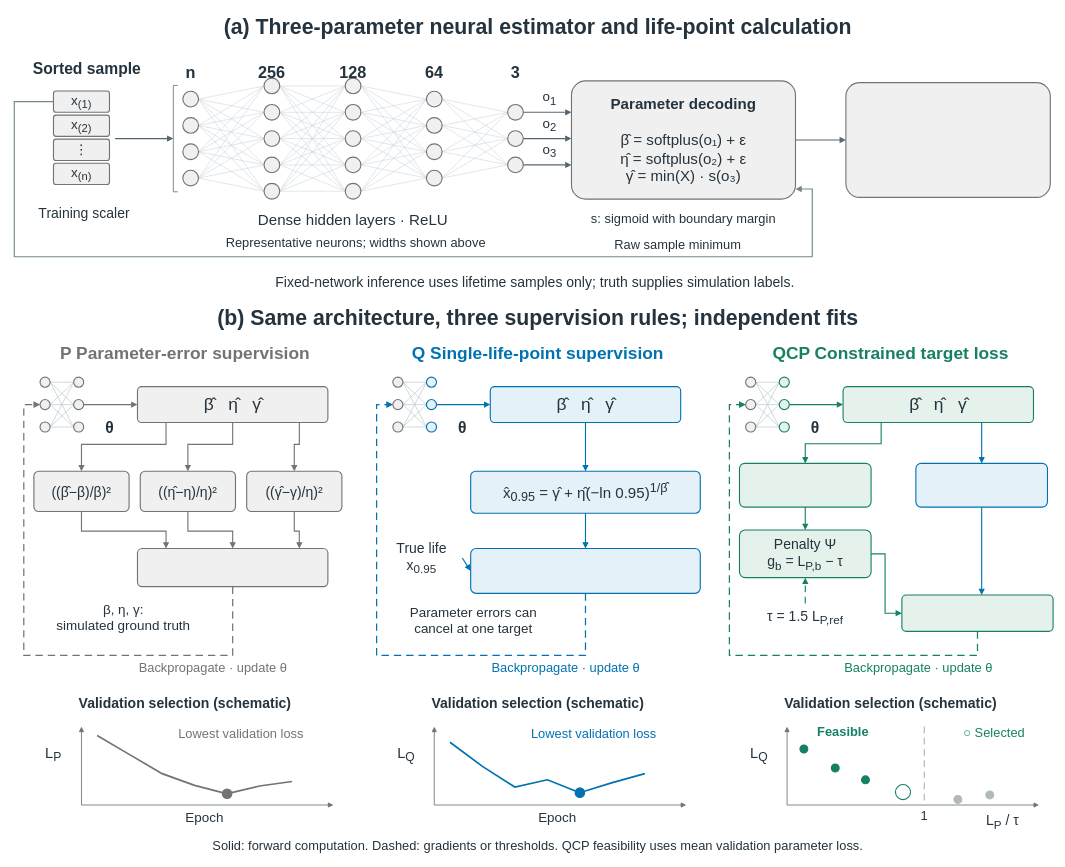
Some shapes in this 1065 by 867 pixel diagram are drawn without their labels. Here are the shapes that lost their labels. From the top down, the centre of each, then its label:
At (948,140): "Weibull x̂ R = γ̂ + η̂(−ln R) 1/β̂ R = 0.90, 0.95, 0.99".
At (805,485): "L P,b Parameter loss".
At (981,485): "L Q,b Via x̂ 0.95".
At (232,567): "L P = mean(Σ)".
At (585,571): "L Q = mean[((x̂ 0.95 −x 0.95 )/x 0.95 )²]".
At (977,613): "L AL,b = L Q,b + Ψ".
